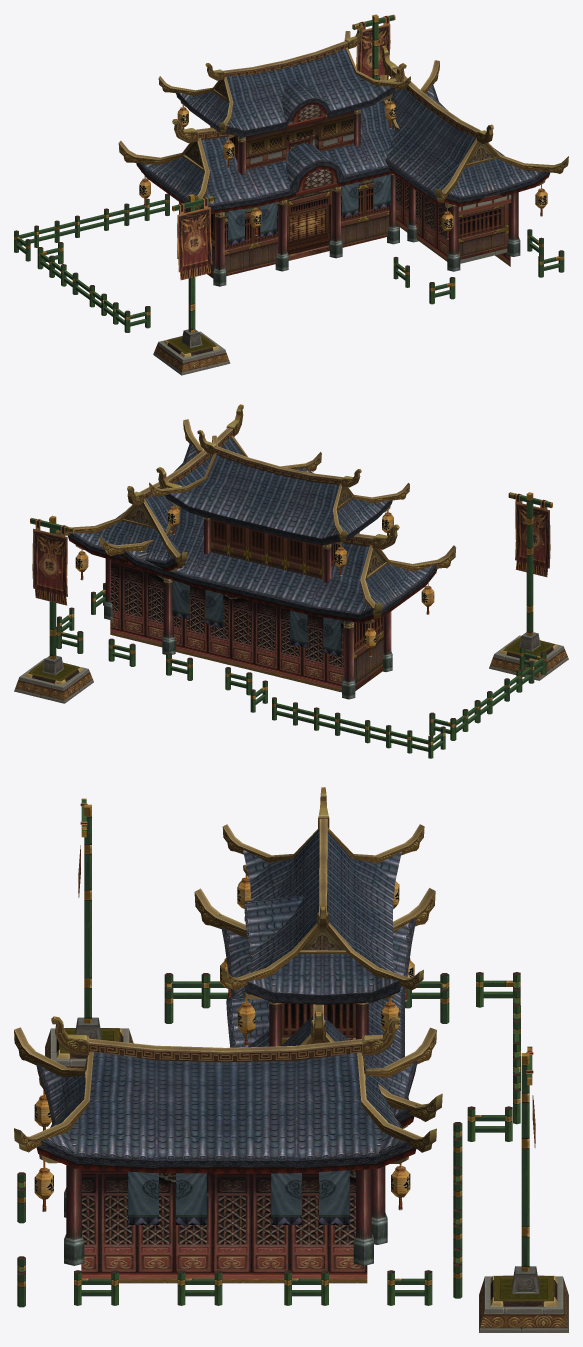
Rendered from Yland1_fz_07 Yland1.FBX.
The picture shows the model from 3 angles, top to bottom: view 1: azimuth 30°, elevation 25°; view 2: azimuth 150°, elevation 25°; view 3: azimuth 270°, elevation 25°; orthographic projection. The views are drawn at different scales.
Parts seen in each view (by area): view 1: Yland1_fz_07 Yland1; view 2: Yland1_fz_07 Yland1; view 3: Yland1_fz_07 Yland1.
Part boxes in pixels (bbox=[...]): Yland1_fz_07 Yland1: bbox=[14, 14, 568, 375]; Yland1_fz_07 Yland1: bbox=[14, 404, 568, 758]; Yland1_fz_07 Yland1: bbox=[14, 787, 568, 1332].
Bounding box in the file's own units: 26.52 × 13.99 × 20.23.
